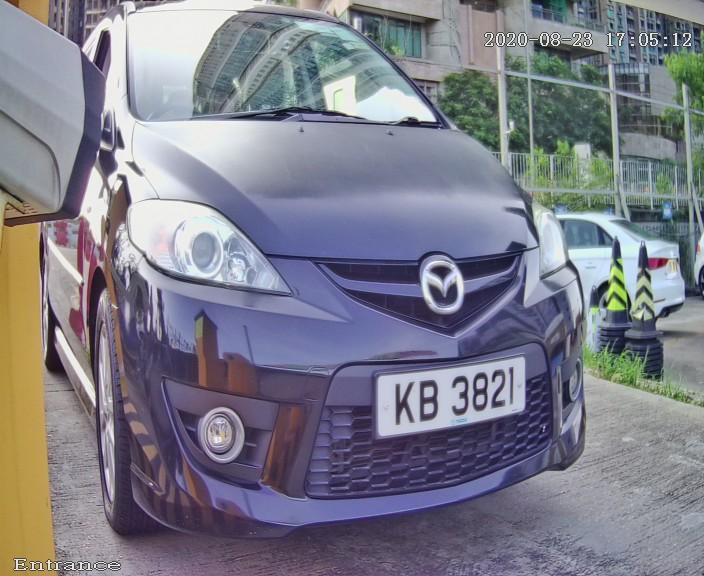Car: (32, 6, 620, 569)
License Plate: (327, 326, 564, 460)
